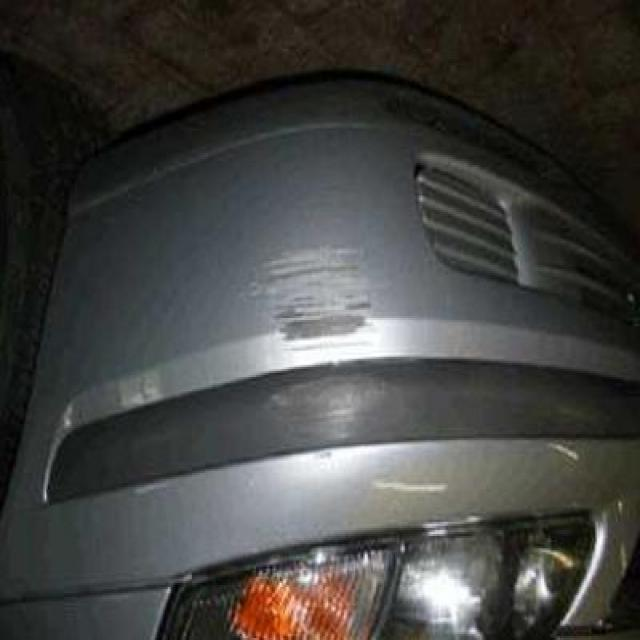scratch: (244, 233, 372, 339), (256, 362, 384, 454)
